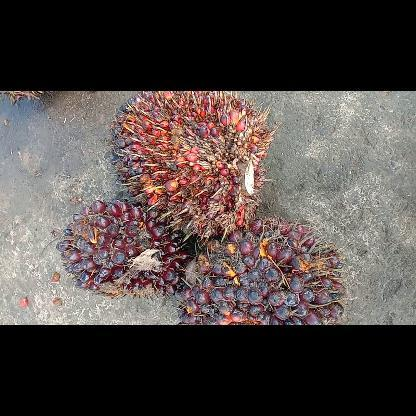Kurang masak: (178, 214, 344, 324), (57, 200, 186, 294)
TBS masak: (112, 94, 274, 232)
